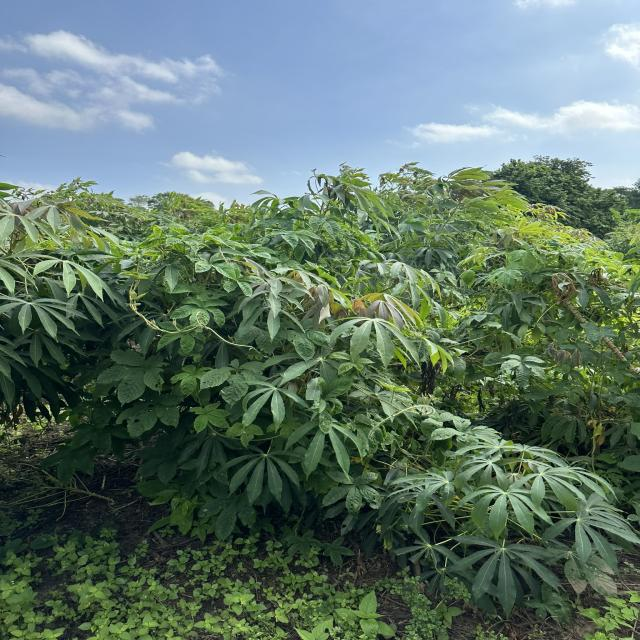Maleza: (465, 183, 640, 412), (2, 538, 381, 640), (528, 358, 627, 450), (151, 299, 226, 363), (174, 488, 260, 543), (94, 345, 166, 401), (201, 360, 269, 405), (396, 392, 456, 438), (70, 411, 130, 453), (283, 313, 336, 360), (235, 316, 287, 363), (332, 464, 380, 511), (435, 410, 494, 447), (118, 402, 181, 433), (189, 247, 244, 282), (186, 397, 227, 437), (173, 359, 211, 397), (222, 268, 264, 298), (222, 422, 269, 444), (333, 353, 374, 372)
